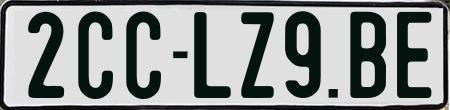2: (26, 9, 66, 95)
9: (283, 11, 321, 101)
B: (348, 11, 390, 100)
C: (126, 9, 167, 101), (77, 8, 118, 97)
E: (395, 10, 430, 102)
L: (192, 11, 234, 100)
Z: (241, 9, 278, 95)
